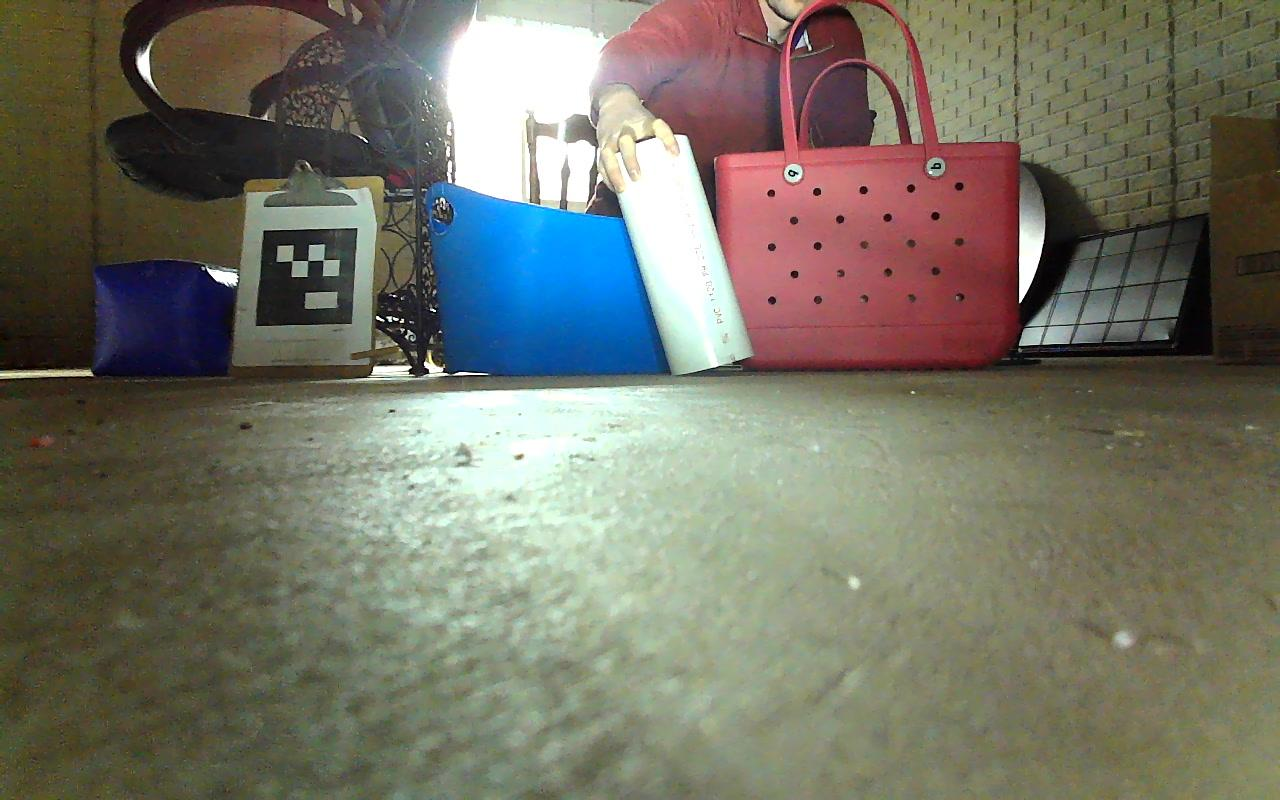coral: (611, 131, 754, 374)
